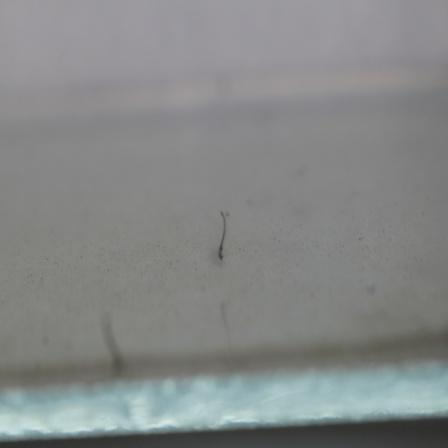Jentik-Nyamuk: (214, 203, 233, 268)
